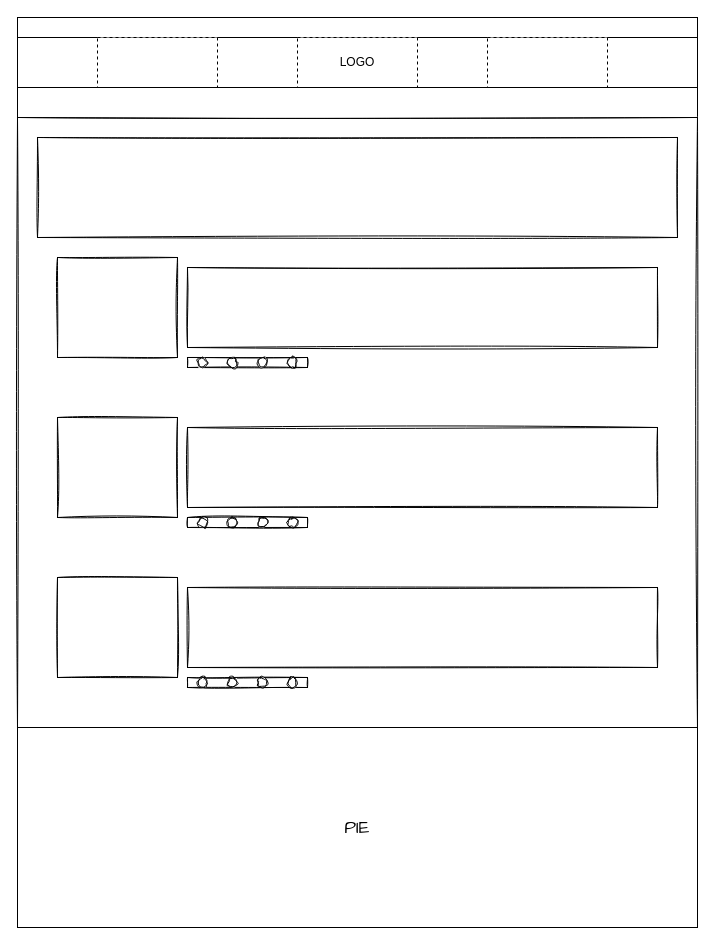
Image size: 715x945. Some labels were removed from this diagram. Each missing label, with the box of its shape:
BARRA DE NAVEGACIÓN: (16, 86, 698, 118)
Tituo: (36, 136, 678, 238)
